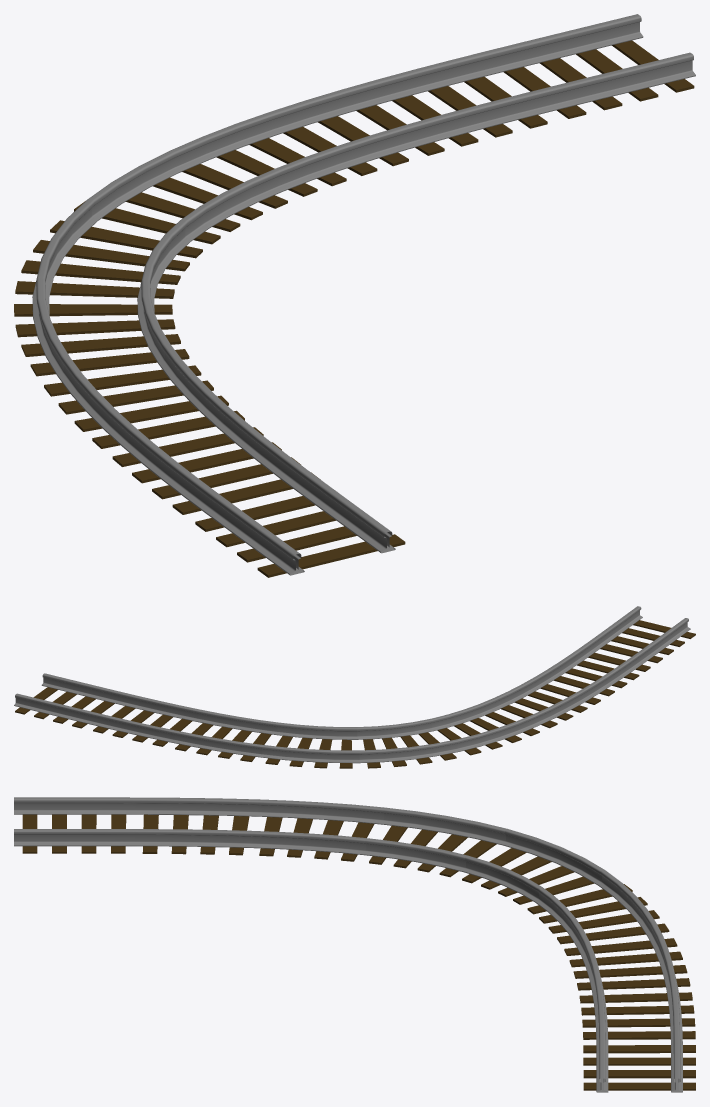
The model's file is Rails 90 stopni.fbx.
3 views of the same model, one above another, from view 1: azimuth 30°, elevation 25°; view 2: azimuth 150°, elevation 25°; view 3: azimuth 270°, elevation 25° (orthographic). The views are drawn at different scales.
Parts seen in each view (by area): view 1: Cube; view 2: Cube; view 3: Cube.
Boxes of the visible parts, x1,y1,x2,y2 form: Cube: (14, 14, 695, 577); Cube: (14, 606, 695, 768); Cube: (14, 797, 695, 1092).
Size of the model in its own units: 16462 by 424 by 16459.
